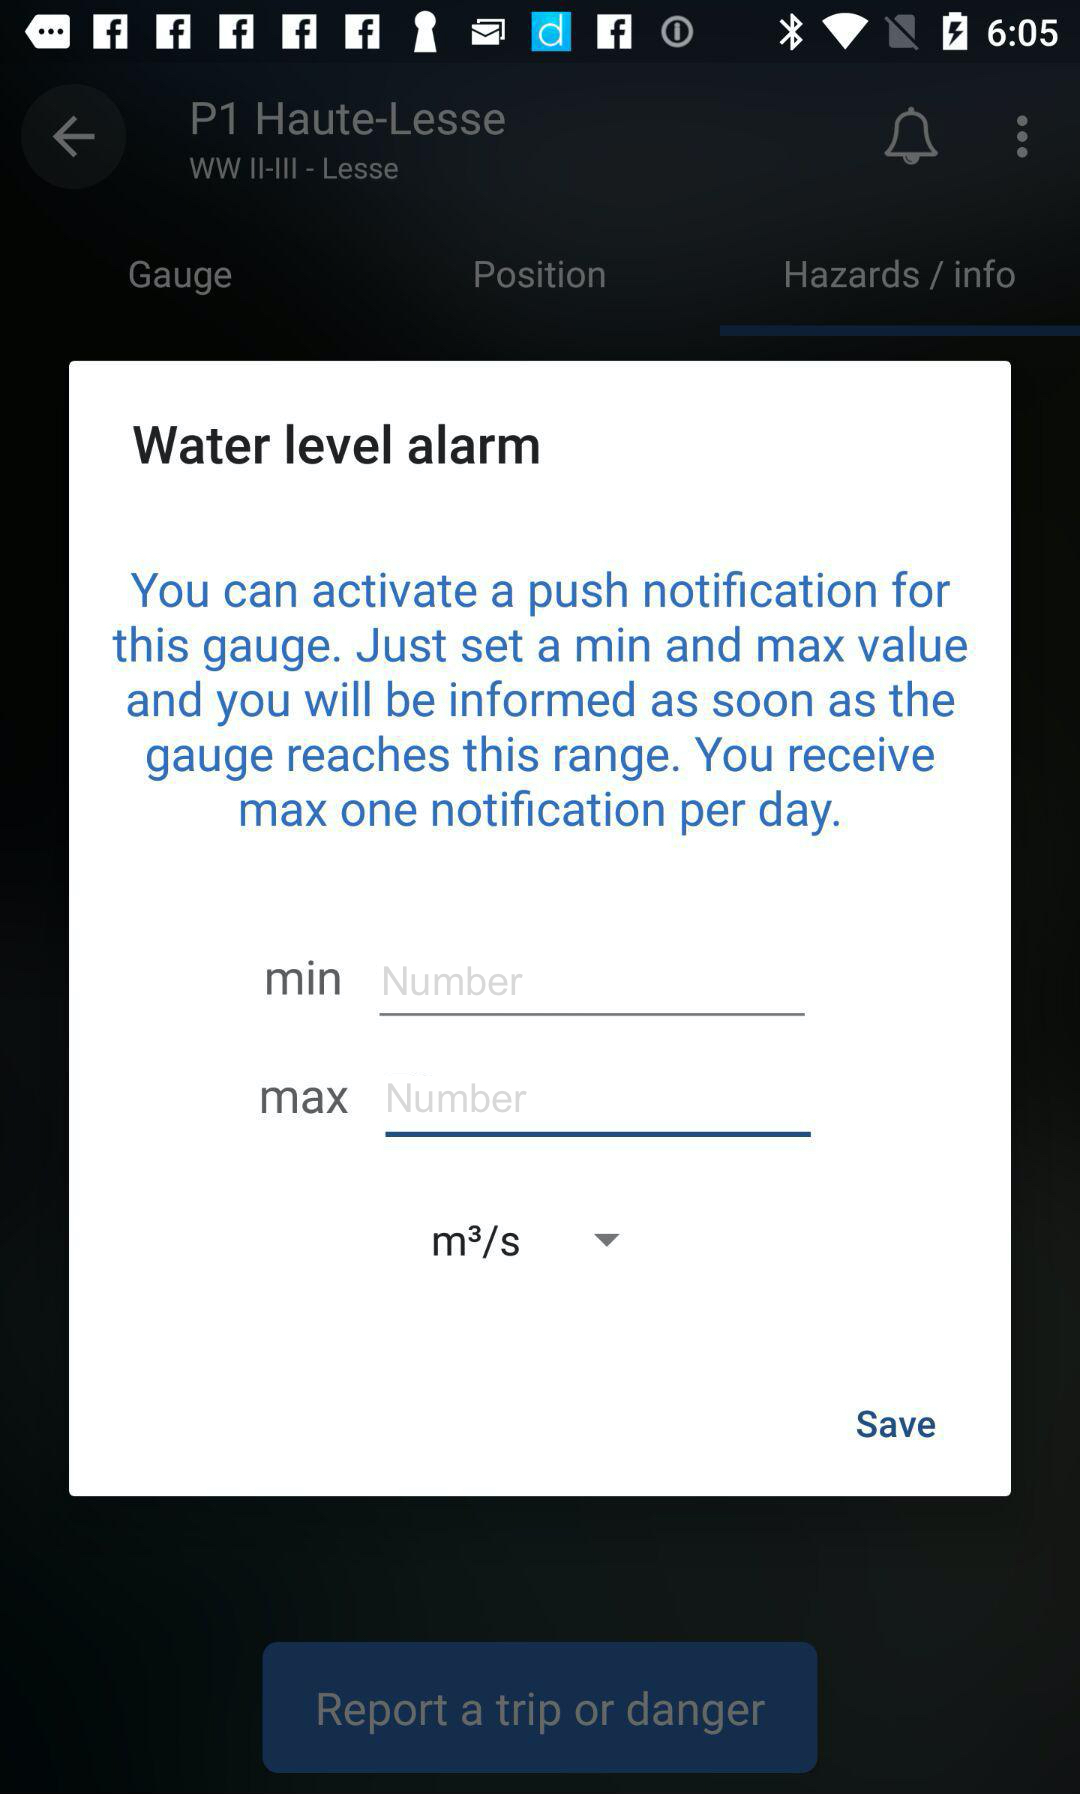EditText: (384, 1082, 812, 1139), (379, 965, 806, 1017)
Icon: (20, 85, 127, 192), (883, 108, 939, 167), (1015, 117, 1029, 161), (594, 1234, 619, 1246)
Modal: (70, 361, 1012, 1497)
Text: (111, 572, 969, 837), (135, 425, 539, 465), (193, 101, 507, 137), (784, 259, 1015, 292), (190, 158, 400, 181), (383, 964, 523, 997), (388, 1082, 528, 1114), (474, 260, 606, 290), (129, 261, 232, 297), (433, 1222, 520, 1258), (266, 961, 341, 996), (263, 1087, 348, 1114), (856, 1411, 935, 1439)
TextButton: (263, 1640, 820, 1775)
UpperTaskBar: (1, 1, 1080, 64)
